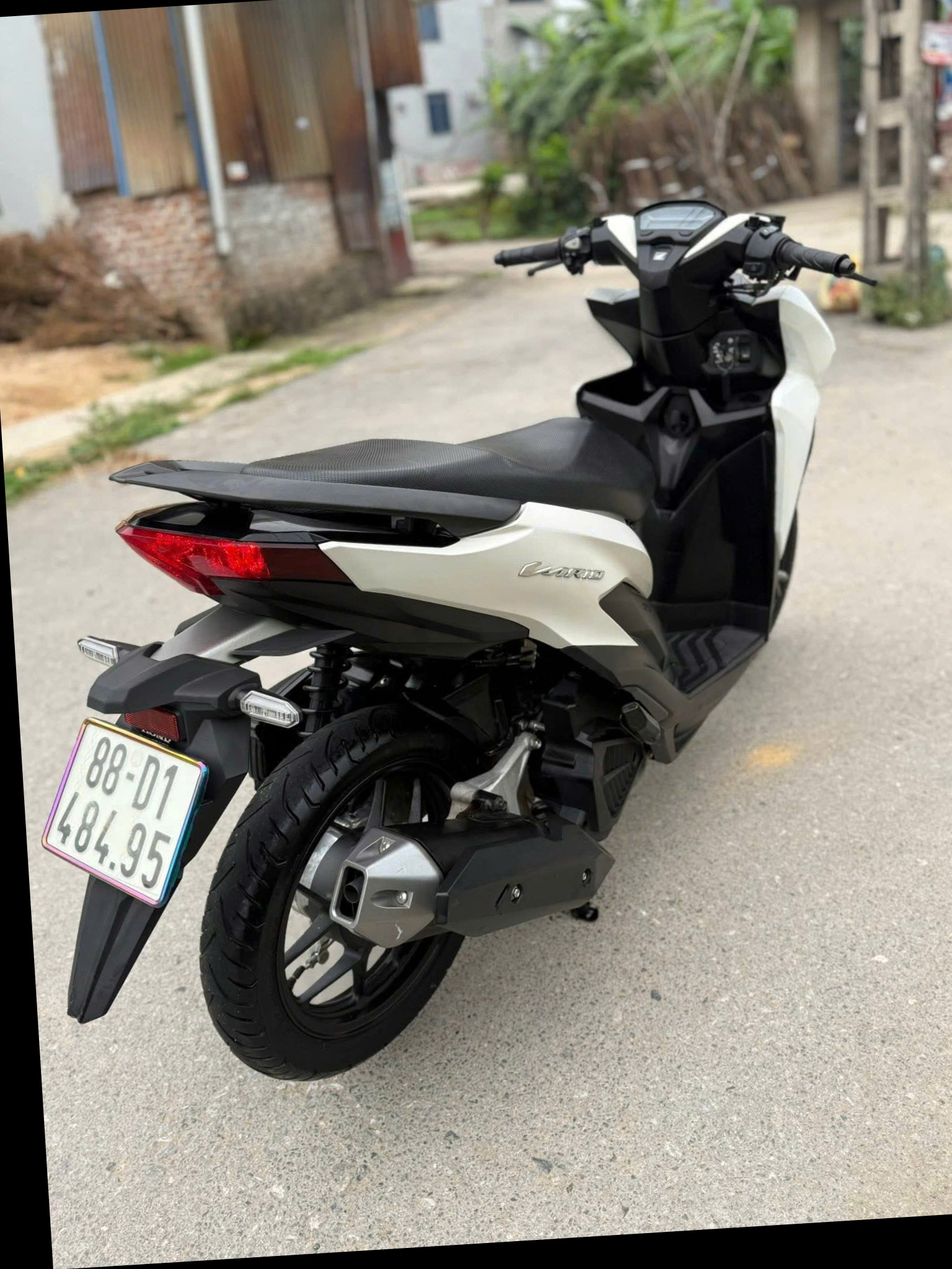Bien-so: (0, 656, 153, 871)
